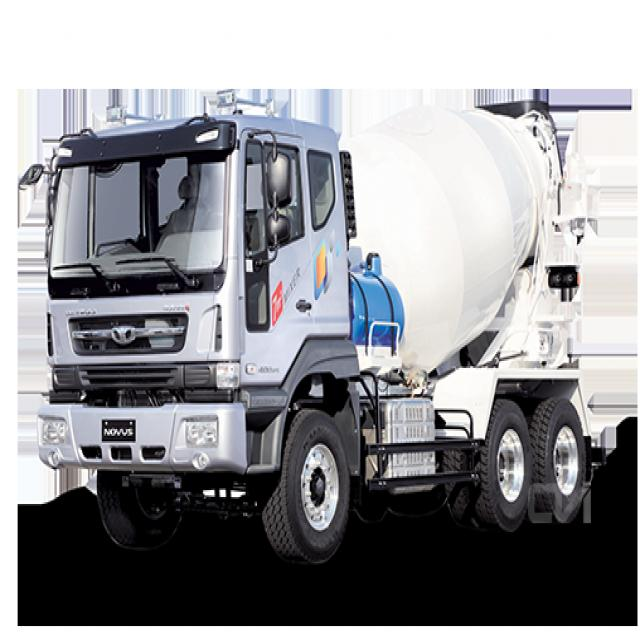Mixer Truck: (37, 99, 606, 566)
